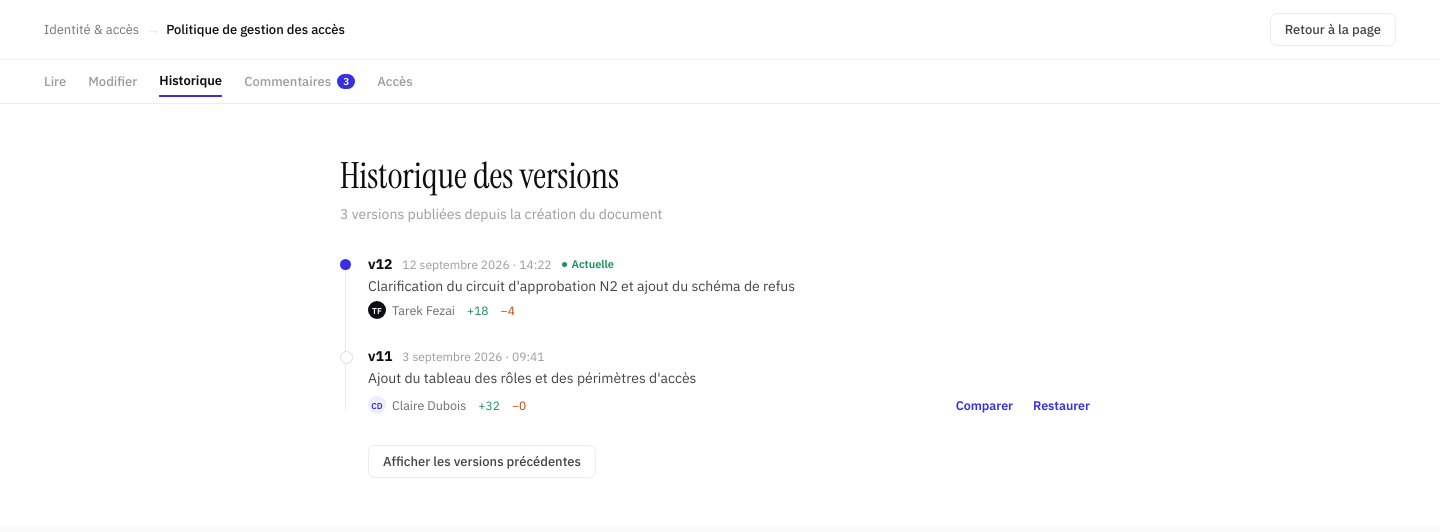
Test: DocumentHistoryPage › pagination : « Afficher les versions précédentes » charge la page suivante
Click the button with test id "history-more": (482, 462) 368,445 -> 596,478
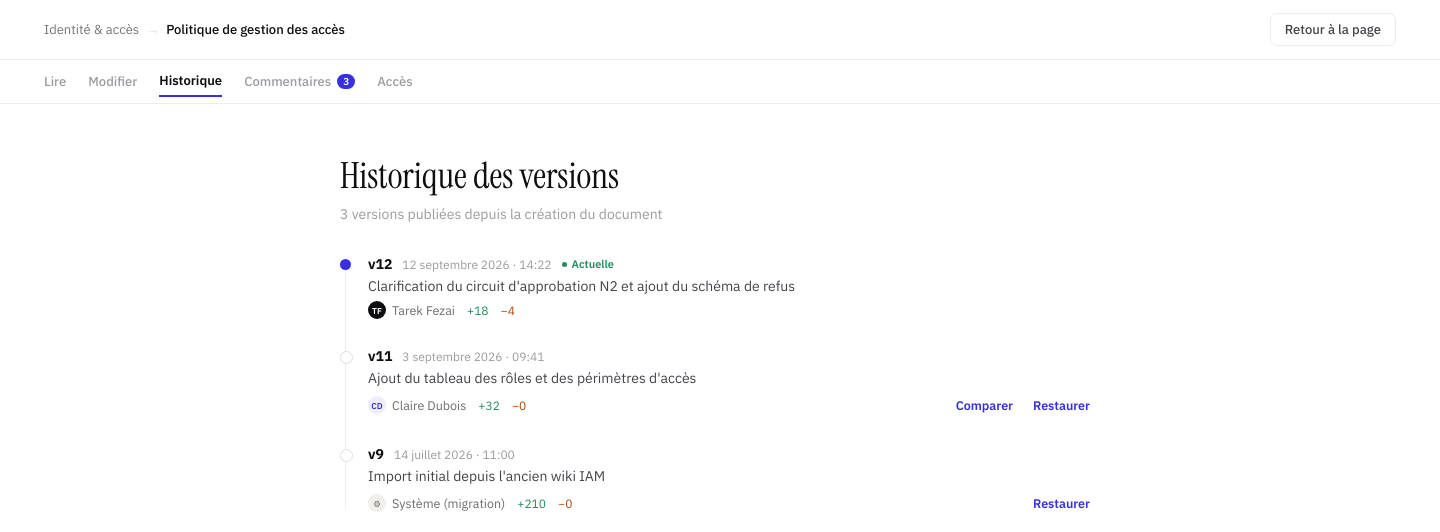
expect the list item with test id "history-row-9" is shown: met, box 368,445 -> 1100,515
expect the button with test id "history-more" is gone: met
